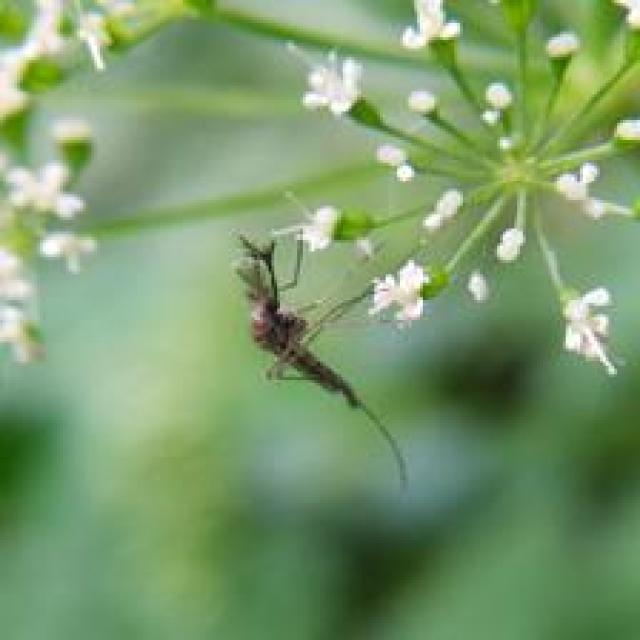Culex: (230, 228, 410, 492)
